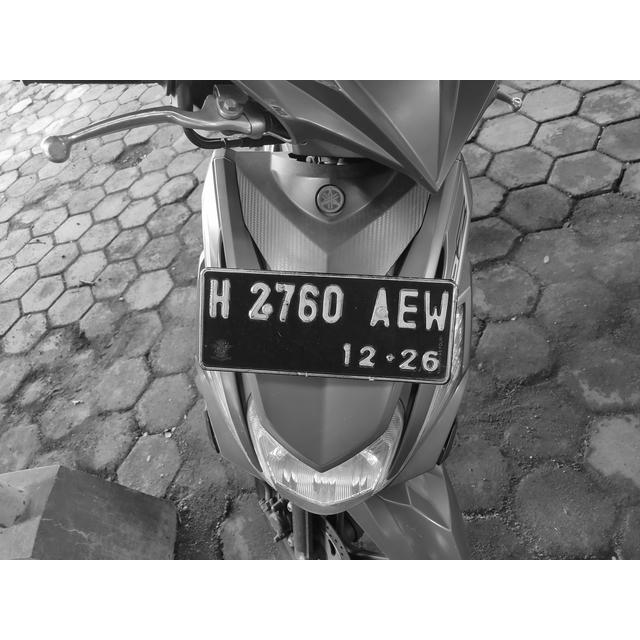license: (205, 275, 450, 377)
